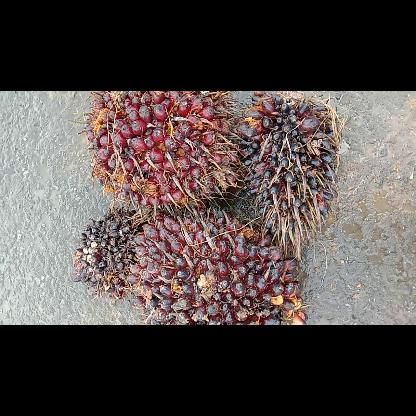Kurang masak: (128, 210, 306, 324)
TBS abnormal: (240, 91, 336, 242), (74, 207, 140, 298)
TBS masak: (84, 90, 236, 209)
